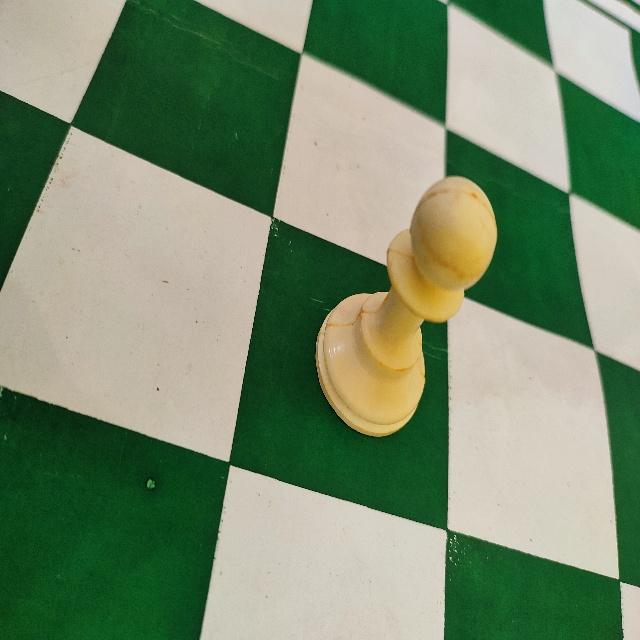Pawn: (306, 169, 499, 444)
